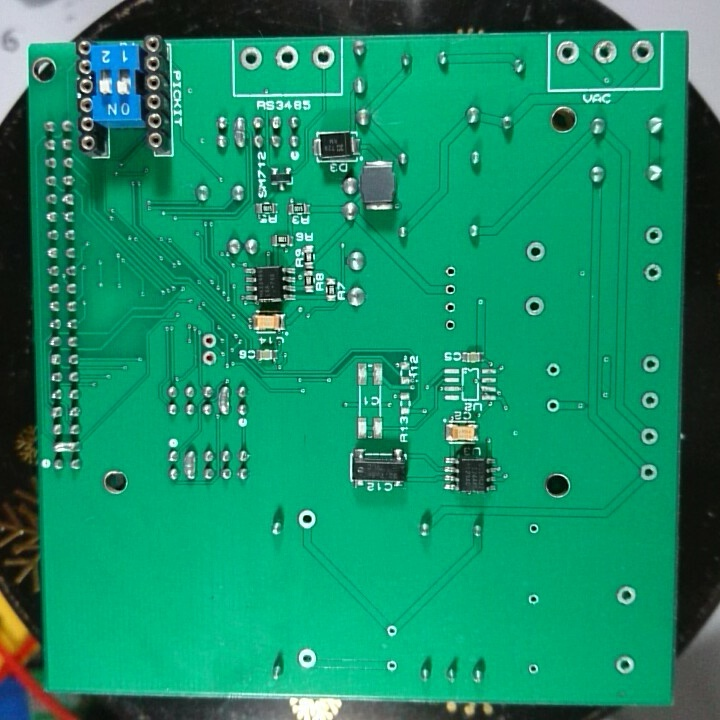F: (237, 43, 266, 75), (309, 43, 338, 75), (555, 38, 584, 70), (592, 37, 619, 71), (273, 43, 300, 75), (630, 38, 655, 69), (614, 583, 640, 609), (296, 506, 320, 532), (641, 260, 664, 286), (613, 652, 636, 678), (296, 646, 319, 672), (524, 239, 546, 266), (639, 353, 662, 378), (524, 292, 545, 319), (644, 223, 665, 248), (639, 422, 659, 448), (637, 461, 657, 486), (640, 389, 661, 412), (543, 395, 563, 419), (543, 360, 563, 381), (200, 347, 222, 366), (524, 590, 543, 609), (441, 261, 459, 280), (200, 331, 219, 349), (441, 316, 458, 335), (384, 621, 399, 641), (443, 299, 460, 316), (525, 660, 541, 678), (525, 520, 541, 538), (383, 657, 399, 675), (444, 279, 459, 298)
P: (230, 113, 250, 154), (216, 385, 235, 417), (181, 449, 199, 482), (52, 439, 83, 456)
